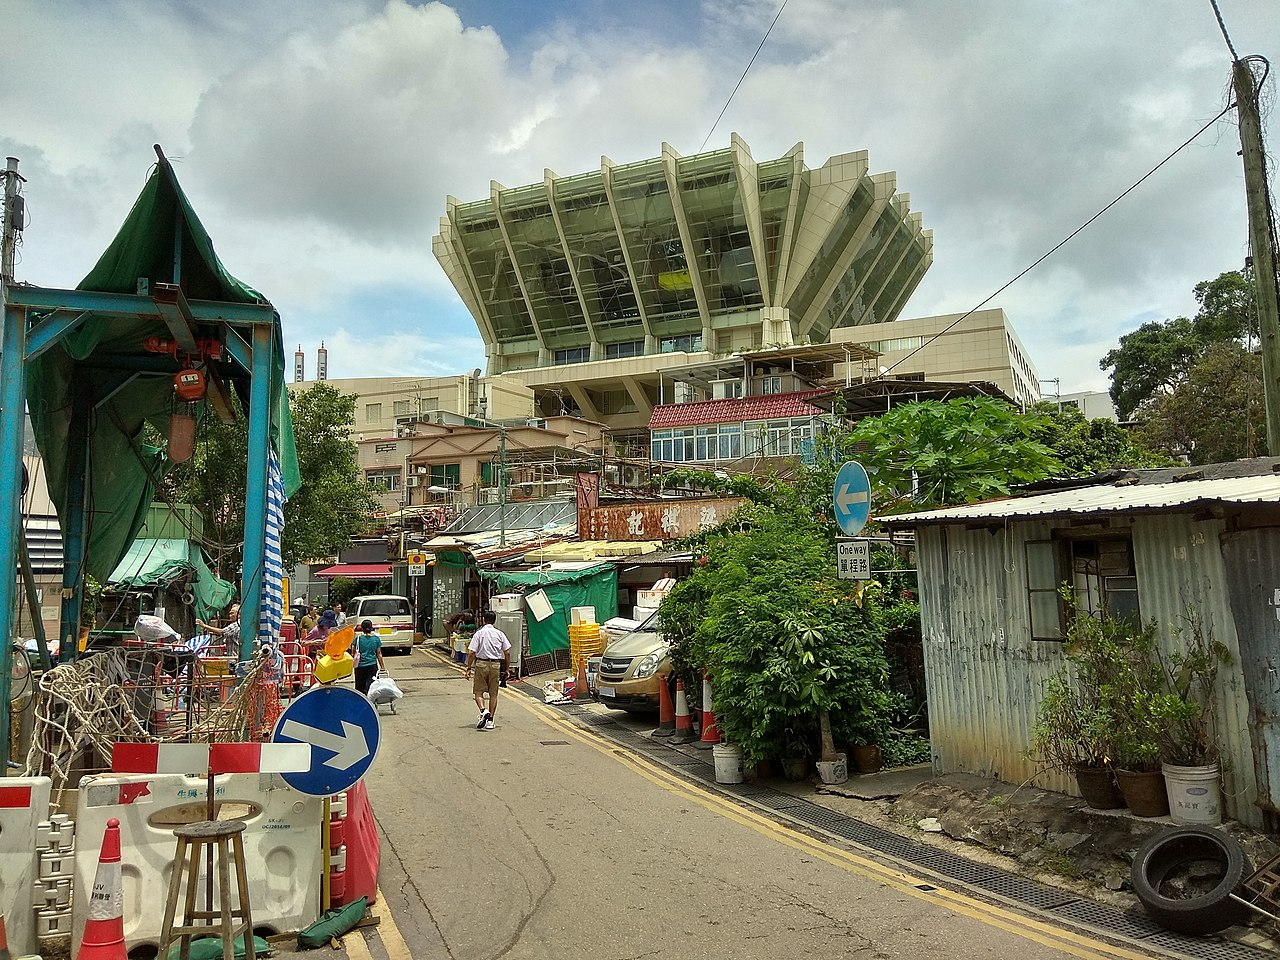Turn Left: (827, 467, 872, 538)
Turn Right: (275, 685, 384, 795)
